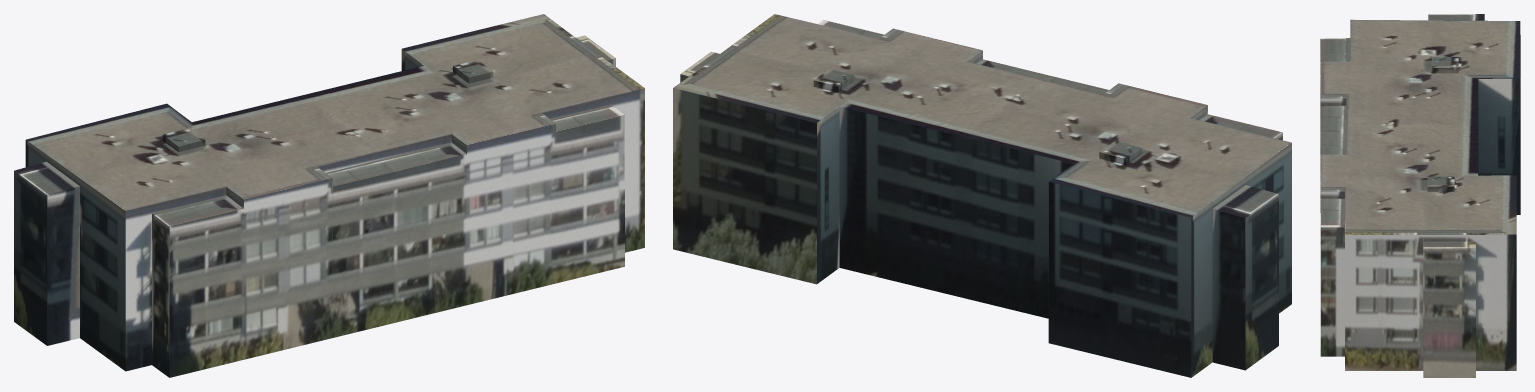
File: talo_build0000013_rotated.obj
3 renders of one model, left to right at view 1: azimuth 30°, elevation 25°; view 2: azimuth 150°, elevation 25°; view 3: azimuth 270°, elevation 25°, orthographic. The views are drawn at different scales.
Parts seen in each view (by area): view 1: talo_Build0000013; view 2: talo_Build0000013; view 3: talo_Build0000013.
Part boxes in pixels (bbox=[...]): talo_Build0000013: bbox=[14, 14, 644, 377]; talo_Build0000013: bbox=[673, 14, 1291, 377]; talo_Build0000013: bbox=[1320, 14, 1520, 377].
Bounding box in the file's own units: 5.26 × 1.48 × 1.89.
